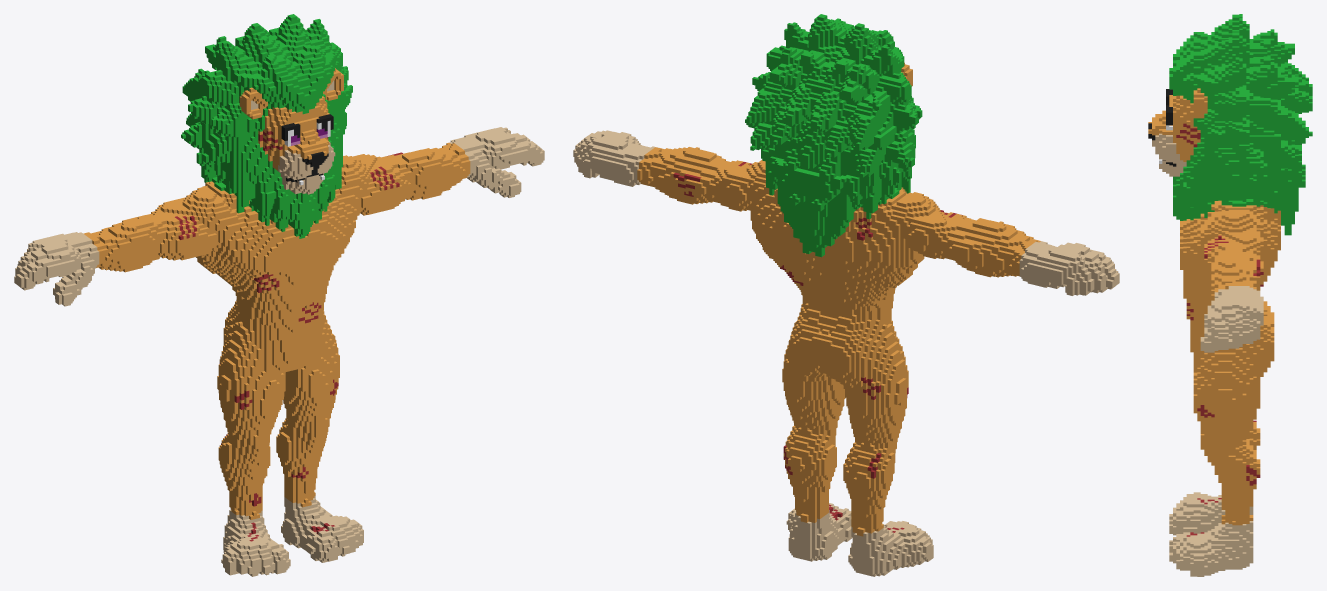
File: 938-Ce7M1HKf.glb
3 renders of one model, left to right at view 1: azimuth 30°, elevation 25°; view 2: azimuth 150°, elevation 25°; view 3: azimuth 270°, elevation 25°, orthographic. The views are drawn at different scales.
Visible parts, largest first — view 1: standard; view 2: standard; view 3: standard.
Boxes of the visible parts, x1=… form: standard: x1=14, y1=14, x2=544, y2=576; standard: x1=573, y1=14, x2=1119, y2=576; standard: x1=1148, y1=14, x2=1312, y2=576.
Size of the model in its own units: 17.2 by 16.5 by 4.7.
4 materials, 4 textured.
